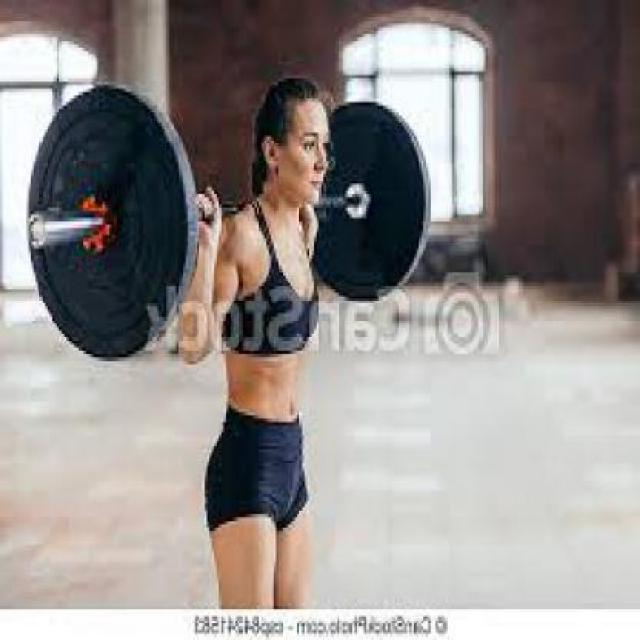Barbell: (20, 200, 46, 260)
